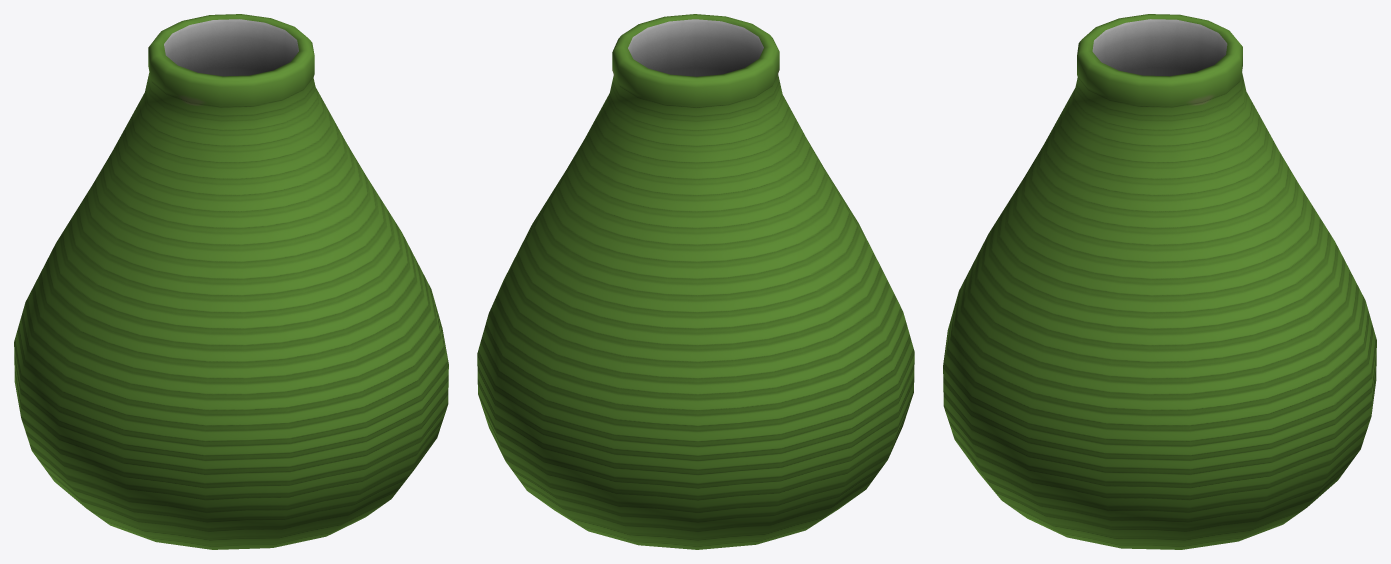
The model's file is obj_yerba_mate_cup_matero_f8f227.glb.
The picture shows the model from 3 angles, left to right: view 1: azimuth 30°, elevation 25°; view 2: azimuth 150°, elevation 25°; view 3: azimuth 270°, elevation 25°; orthographic projection.
Parts seen in each view (by area): view 1: obj_yerba_mate_cup_matero_f8f227; view 2: obj_yerba_mate_cup_matero_f8f227; view 3: obj_yerba_mate_cup_matero_f8f227.
Part boxes in pixels (x1=…): obj_yerba_mate_cup_matero_f8f227: x1=14, y1=14, x2=448, y2=549; obj_yerba_mate_cup_matero_f8f227: x1=477, y1=14, x2=914, y2=549; obj_yerba_mate_cup_matero_f8f227: x1=943, y1=14, x2=1376, y2=549.
Size of the model in its own units: 0.3119 by 0.35 by 0.3119.
1 material, 1 textured.
